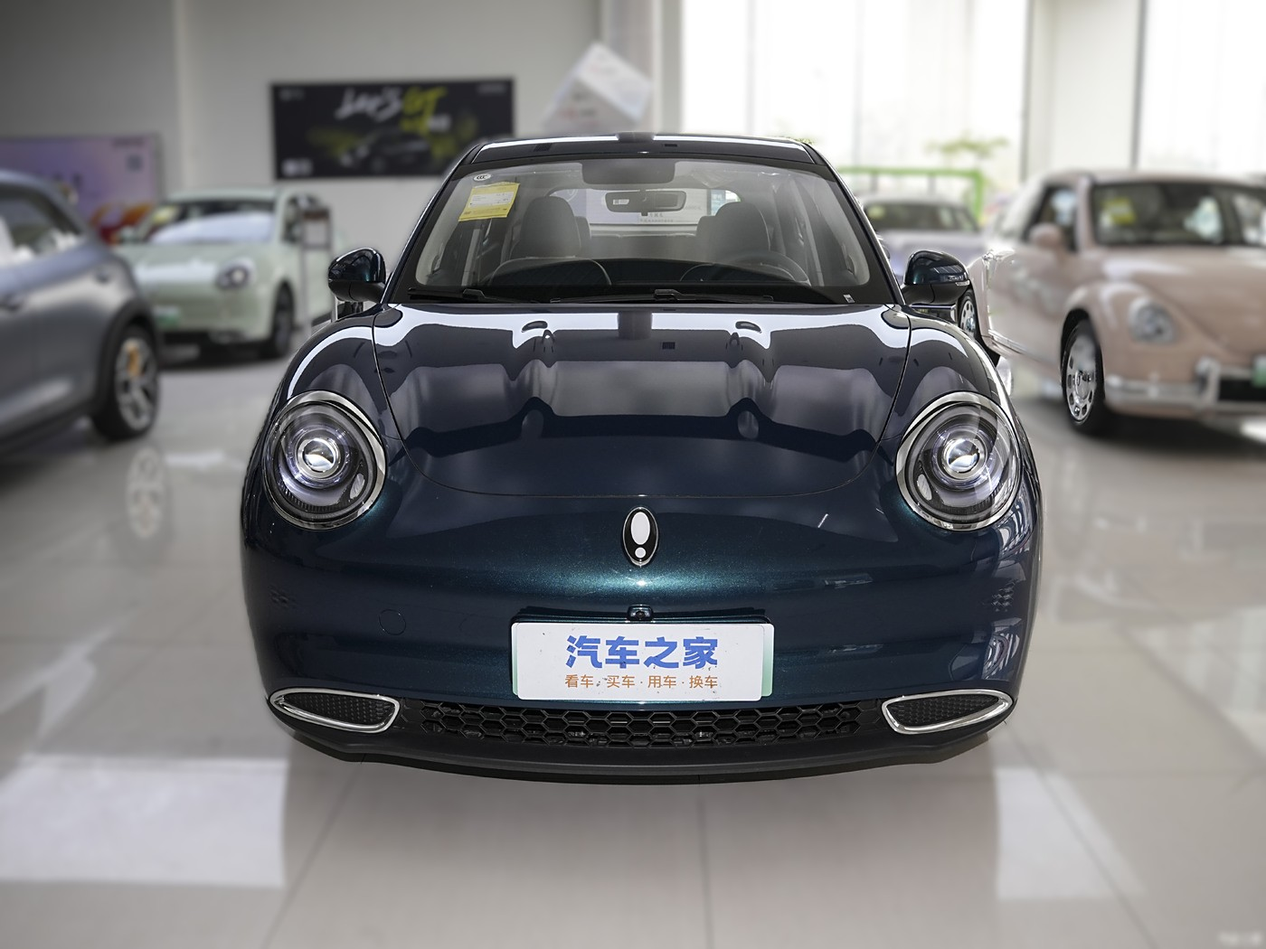ORA: (624, 509, 657, 565)
